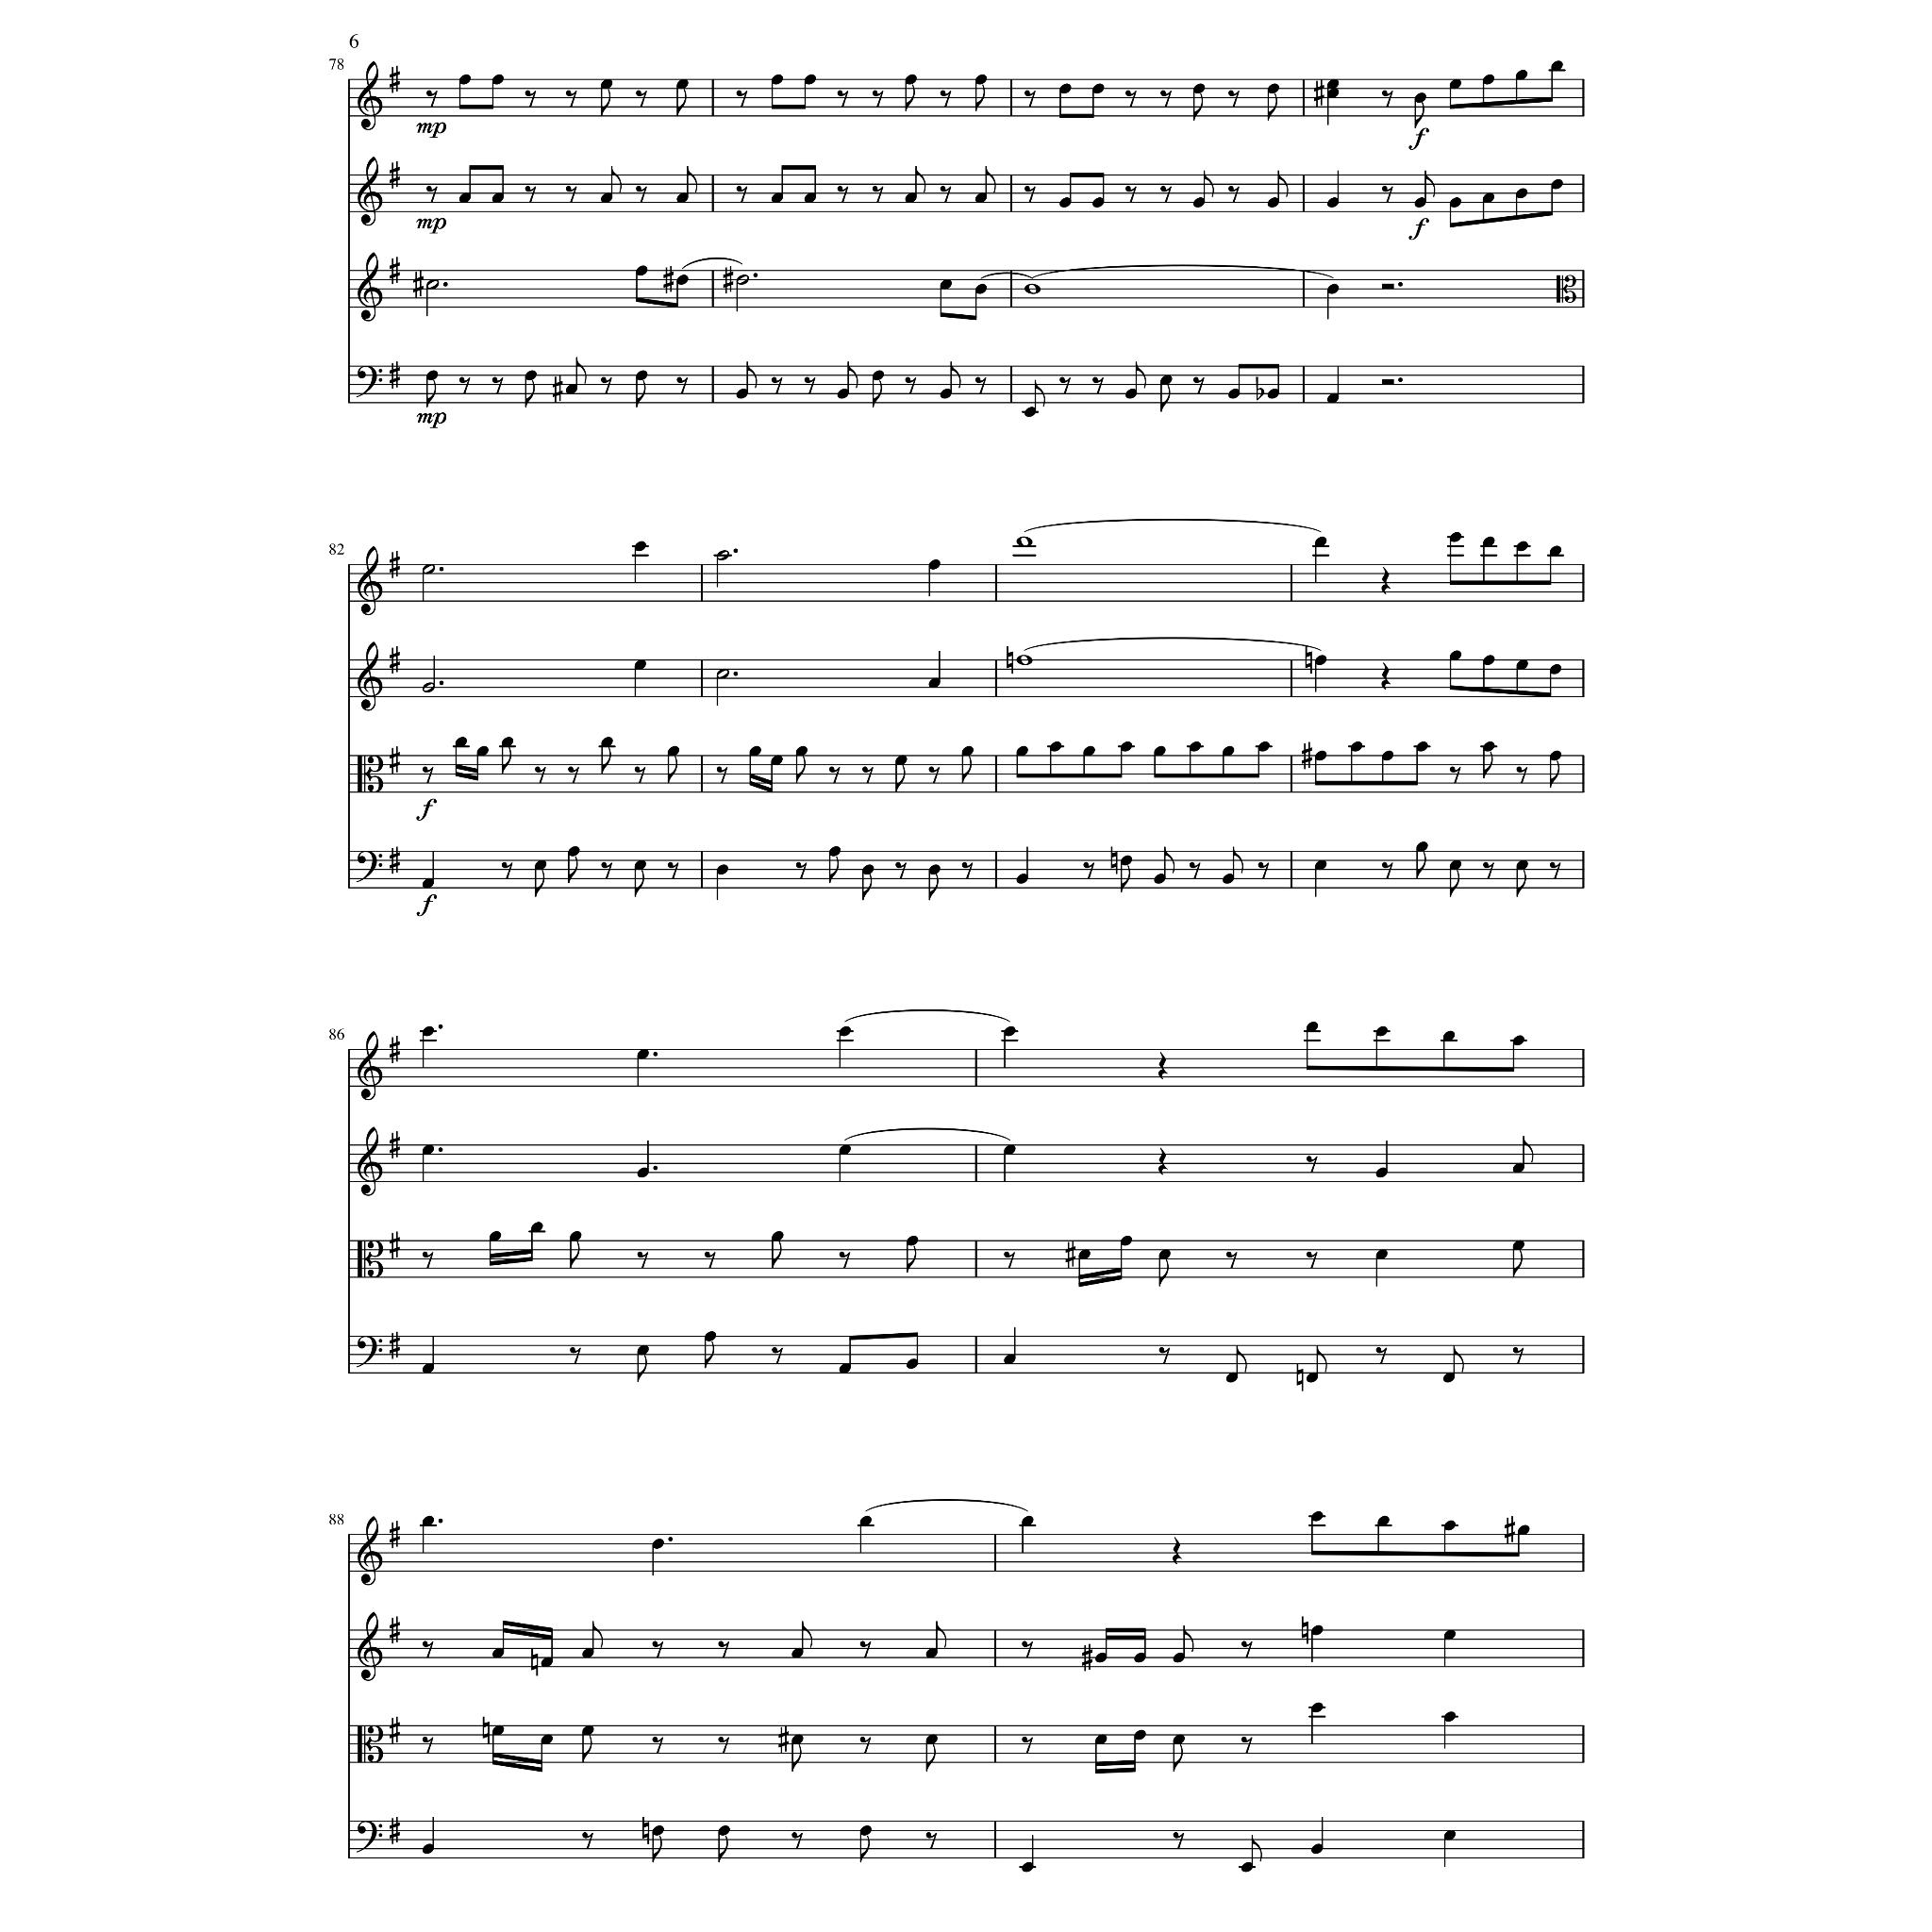fClef: (356, 366, 382, 398), (356, 851, 382, 883), (356, 1336, 382, 1368), (356, 1821, 382, 1852)
flag8thDown: (676, 88, 686, 117), (1120, 865, 1131, 893), (1516, 869, 1527, 897), (534, 869, 545, 897), (862, 872, 872, 901), (929, 872, 939, 901), (906, 1246, 916, 1274), (860, 1835, 870, 1863), (975, 85, 985, 111), (635, 380, 646, 407), (426, 380, 437, 407), (872, 380, 883, 407), (1483, 752, 1493, 778), (501, 747, 511, 773), (1159, 1260, 1169, 1286), (1513, 1251, 1523, 1277), (704, 1341, 715, 1368), (637, 1355, 648, 1382), (1173, 1744, 1184, 1771), (791, 1744, 801, 1771), (1161, 384, 1169, 412), (1415, 101, 1424, 129), (602, 88, 610, 117), (1417, 851, 1426, 879), (1451, 869, 1460, 897), (669, 755, 678, 784), (635, 869, 644, 897), (895, 764, 904, 793), (962, 755, 971, 784), (796, 755, 805, 784), (570, 1240, 579, 1269), (771, 1240, 780, 1269), (653, 1835, 662, 1863), (718, 1835, 727, 1863), (1269, 94, 1277, 120), (1194, 94, 1203, 120), (525, 380, 534, 407), (906, 85, 915, 111), (1550, 761, 1559, 787), (568, 856, 577, 883), (602, 747, 610, 773), (830, 856, 839, 883), (582, 1736, 591, 1762), (927, 1744, 936, 1771)
flag8thUp: (1136, 361, 1146, 389), (1203, 170, 1214, 198), (1424, 170, 1435, 198), (1277, 170, 1288, 198), (847, 361, 858, 389), (950, 361, 961, 389), (747, 361, 757, 389), (1251, 1835, 1261, 1863), (801, 1621, 812, 1649), (936, 1621, 947, 1649), (985, 166, 996, 193), (1035, 380, 1046, 407), (686, 166, 697, 193), (610, 166, 621, 193), (915, 166, 925, 193), (1164, 847, 1175, 874), (1237, 1346, 1247, 1373), (1316, 1346, 1327, 1373), (1453, 1346, 1463, 1373), (1184, 1626, 1194, 1652), (1523, 1138, 1534, 1162), (593, 1621, 602, 1649), (577, 357, 586, 384), (1233, 847, 1242, 874)
gClef: (357, 60, 382, 131), (357, 251, 382, 322), (357, 157, 382, 226), (357, 547, 382, 616), (357, 642, 382, 711), (357, 1031, 382, 1100), (357, 1127, 382, 1196), (357, 1612, 382, 1681), (357, 1516, 382, 1585)
noteheadBlack: (1516, 188, 1529, 200), (1449, 649, 1461, 662), (531, 1221, 543, 1233), (1003, 1353, 1016, 1366), (1125, 389, 1138, 400), (1161, 375, 1173, 386), (1267, 83, 1279, 94), (1267, 198, 1279, 209), (1267, 389, 1279, 400), (1192, 198, 1205, 209), (1192, 83, 1205, 94), (1228, 389, 1240, 400), (1024, 407, 1037, 418), (1092, 83, 1104, 94), (1092, 198, 1104, 209), (1516, 71, 1529, 81), (1550, 60, 1562, 71), (1449, 80, 1461, 90), (1449, 198, 1461, 209), (1481, 74, 1493, 85), (1481, 193, 1493, 203), (1327, 88, 1339, 99), (1327, 80, 1339, 90), (1327, 198, 1339, 209), (1327, 283, 1339, 294), (1327, 393, 1339, 403), (1414, 198, 1426, 209), (600, 80, 612, 90), (600, 193, 612, 203), (524, 370, 536, 380), (566, 384, 579, 395), (676, 80, 688, 90), (676, 193, 688, 203), (676, 274, 688, 285), (635, 265, 648, 276), (635, 370, 648, 380), (425, 370, 437, 380), (458, 74, 471, 85), (458, 193, 471, 203), (870, 370, 883, 380), (803, 193, 816, 203), (837, 389, 849, 400), (939, 280, 952, 290), (939, 389, 952, 400), (904, 74, 916, 85), (904, 193, 916, 203), (803, 74, 816, 85), (736, 389, 748, 400), (770, 193, 782, 203), (770, 74, 782, 85), (1315, 860, 1327, 870), (1315, 536, 1327, 547), (1315, 655, 1327, 665), (1315, 750, 1327, 761), (1223, 745, 1235, 755), (1223, 874, 1235, 885), (1256, 741, 1269, 752), (1350, 741, 1362, 752), (1049, 741, 1062, 752), (1083, 745, 1095, 755), (1189, 741, 1201, 752), (1120, 741, 1132, 752), (1120, 855, 1132, 865), (1154, 745, 1166, 755), (1154, 874, 1166, 885), (1550, 545, 1562, 556), (1550, 665, 1562, 676), (1550, 750, 1562, 761), (1516, 541, 1529, 552), (1516, 660, 1529, 671), (1516, 860, 1529, 870), (1415, 741, 1428, 752), (1415, 842, 1428, 853), (1449, 533, 1461, 543), (1382, 750, 1394, 761), (1449, 860, 1461, 870), (1483, 536, 1495, 547), (1483, 655, 1495, 665), (1483, 741, 1495, 752), (600, 738, 612, 748), (633, 541, 646, 552), (633, 660, 646, 671), (633, 860, 646, 870), (667, 745, 679, 755), (421, 878, 433, 888), (476, 745, 488, 755), (501, 738, 513, 748), (715, 865, 727, 876), (455, 738, 467, 748), (927, 678, 939, 688), (927, 559, 939, 570), (927, 865, 939, 876), (862, 865, 874, 876), (895, 755, 908, 766), (1016, 745, 1028, 755), (1016, 874, 1028, 885), (961, 745, 973, 755), (748, 745, 761, 755), (770, 755, 782, 766), (794, 745, 807, 755), (1306, 1021, 1318, 1031), (1120, 1237, 1132, 1247), (1077, 1249, 1090, 1260), (1511, 1240, 1523, 1251), (1375, 1168, 1387, 1178), (1375, 1249, 1387, 1260), (1375, 1026, 1387, 1037), (1511, 1162, 1523, 1173), (1511, 1035, 1523, 1046), (637, 1168, 649, 1178), (637, 1345, 649, 1355), (637, 1049, 649, 1060), (421, 1364, 433, 1375), (421, 1145, 433, 1155), (421, 1026, 433, 1037), (906, 1359, 918, 1369), (906, 1237, 918, 1247), (839, 1364, 851, 1375), (839, 1145, 851, 1155), (1003, 1145, 1016, 1155), (1003, 1026, 1016, 1037), (839, 1026, 851, 1037), (704, 1330, 715, 1343), (1134, 1652, 1146, 1663), (1021, 1863, 1033, 1874), (1095, 1734, 1108, 1744), (1095, 1652, 1108, 1663), (1518, 1525, 1530, 1536), (1311, 1844, 1323, 1854), (1311, 1702, 1323, 1713), (1311, 1624, 1323, 1635), (1311, 1511, 1323, 1522), (1240, 1863, 1253, 1874), (1444, 1831, 1456, 1842), (1444, 1711, 1456, 1721), (1444, 1629, 1456, 1640), (1444, 1520, 1456, 1530), (540, 1734, 552, 1744), (651, 1539, 663, 1550), (582, 1725, 594, 1736), (582, 1647, 594, 1658), (421, 1844, 433, 1854), (858, 1826, 870, 1836), (791, 1734, 803, 1744), (925, 1734, 938, 1744), (925, 1647, 938, 1658), (791, 1647, 803, 1658), (651, 1826, 663, 1836), (975, 283, 985, 294), (1060, 83, 1070, 94), (1060, 198, 1070, 209), (975, 193, 985, 203), (492, 74, 502, 85), (492, 193, 502, 203), (975, 74, 985, 85), (534, 860, 545, 870), (1159, 1249, 1169, 1260), (1173, 1652, 1184, 1663), (1173, 1734, 1184, 1744), (492, 1725, 502, 1736), (492, 1647, 502, 1658), (718, 1826, 729, 1836), (1550, 180, 1562, 189), (1414, 94, 1426, 103), (568, 847, 580, 856), (828, 847, 840, 856), (1226, 1373, 1238, 1382), (1306, 1373, 1318, 1382), (570, 1231, 582, 1240), (488, 1231, 501, 1240), (771, 1231, 784, 1240), (1134, 1730, 1146, 1739), (1021, 1516, 1033, 1525), (1376, 1516, 1389, 1525), (540, 1658, 552, 1667), (421, 1516, 433, 1525), (858, 1516, 870, 1525), (1444, 1373, 1454, 1382), (1444, 1031, 1454, 1040)
noteheadHalf: (425, 280, 439, 290), (421, 564, 435, 575), (421, 683, 435, 694), (736, 274, 748, 285), (717, 550, 729, 561), (717, 669, 729, 679)
noteheadWhole: (1016, 536, 1033, 547), (1016, 655, 1033, 665), (1024, 283, 1040, 294)
rest8th: (1306, 1155, 1318, 1175), (1123, 186, 1136, 203), (1123, 90, 1136, 108), (1228, 90, 1240, 108), (1228, 186, 1240, 203), (1023, 186, 1035, 203), (1023, 90, 1035, 108), (1092, 377, 1104, 395), (600, 377, 612, 395), (524, 90, 536, 108), (524, 186, 536, 203), (564, 90, 577, 108), (564, 186, 577, 203), (676, 377, 688, 395), (425, 90, 437, 108), (425, 186, 437, 203), (458, 377, 471, 395), (870, 186, 883, 203), (870, 90, 883, 108), (803, 377, 816, 395), (904, 377, 916, 395), (770, 377, 782, 395), (1256, 862, 1269, 879), (1083, 862, 1095, 879), (1189, 862, 1201, 879), (1449, 766, 1461, 784), (1483, 862, 1495, 879), (600, 862, 612, 879), (633, 766, 646, 784), (568, 766, 580, 784), (715, 766, 727, 784), (667, 862, 679, 879), (421, 766, 433, 784), (501, 862, 513, 879), (862, 766, 874, 784), (961, 862, 973, 879), (794, 862, 807, 879), (828, 766, 840, 784), (1224, 1251, 1237, 1269), (1306, 1251, 1318, 1269), (1511, 1346, 1523, 1364), (1375, 1346, 1387, 1364), (637, 1251, 649, 1269), (421, 1251, 433, 1269), (839, 1251, 851, 1269), (1003, 1251, 1016, 1269), (771, 1346, 784, 1364), (1240, 1642, 1253, 1660), (1021, 1736, 1033, 1753), (1021, 1642, 1033, 1660), (1240, 1736, 1253, 1753), (651, 1642, 663, 1660), (421, 1736, 433, 1753), (421, 1642, 433, 1660), (858, 1736, 870, 1753), (858, 1642, 870, 1660), (651, 1736, 663, 1753), (791, 1833, 803, 1851), (925, 1833, 938, 1851), (1161, 90, 1171, 108), (1161, 186, 1171, 203), (1192, 377, 1203, 395), (975, 377, 985, 395), (1060, 377, 1070, 395), (1382, 186, 1392, 203), (1382, 90, 1392, 108), (635, 90, 646, 108), (635, 186, 646, 203), (492, 377, 502, 395), (837, 90, 847, 108), (837, 186, 847, 203), (939, 186, 950, 203), (939, 90, 950, 108), (736, 90, 747, 108), (736, 186, 747, 203), (1550, 862, 1560, 879), (1516, 766, 1527, 784), (1382, 862, 1392, 879), (534, 766, 545, 784), (929, 766, 939, 784), (895, 862, 906, 879), (1159, 1346, 1169, 1364), (570, 1346, 580, 1364), (704, 1251, 715, 1269), (1173, 1833, 1184, 1851), (582, 1833, 593, 1851), (718, 1642, 729, 1660), (718, 1736, 729, 1753)
restHalf: (1382, 283, 1394, 290), (1382, 379, 1394, 386)
restQuarter: (1380, 566, 1391, 594), (1380, 662, 1391, 690), (1157, 1146, 1168, 1175), (1157, 1053, 1168, 1081), (1173, 1537, 1182, 1566)
